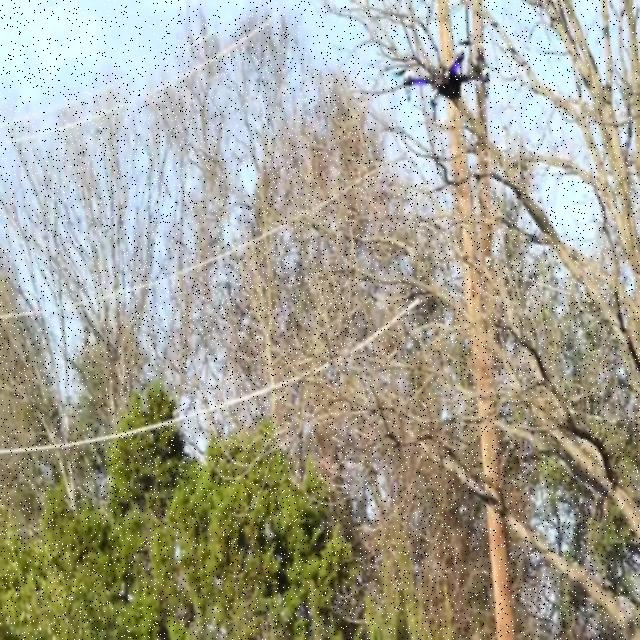UAV: (404, 49, 489, 122)
